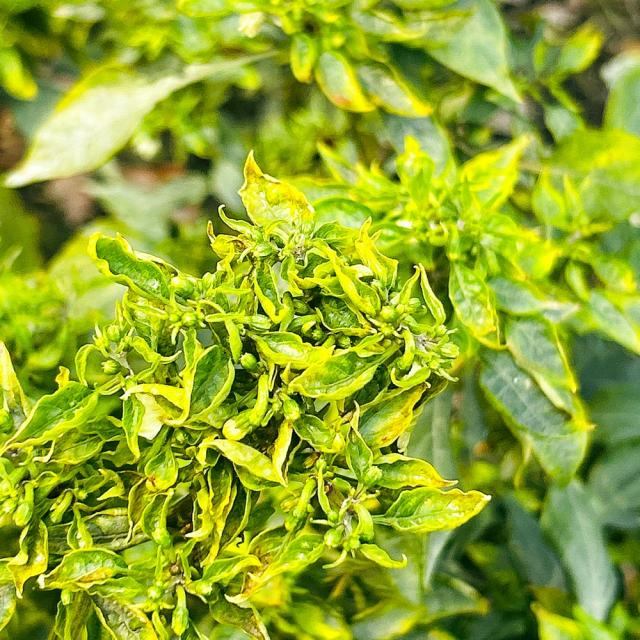Chilli_Leaf_Curl: (1, 148, 492, 638)
